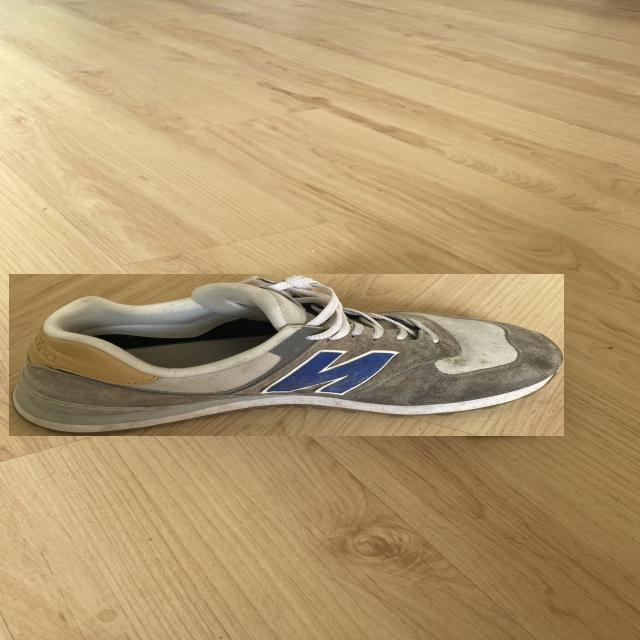shoe: (9, 274, 564, 436)
